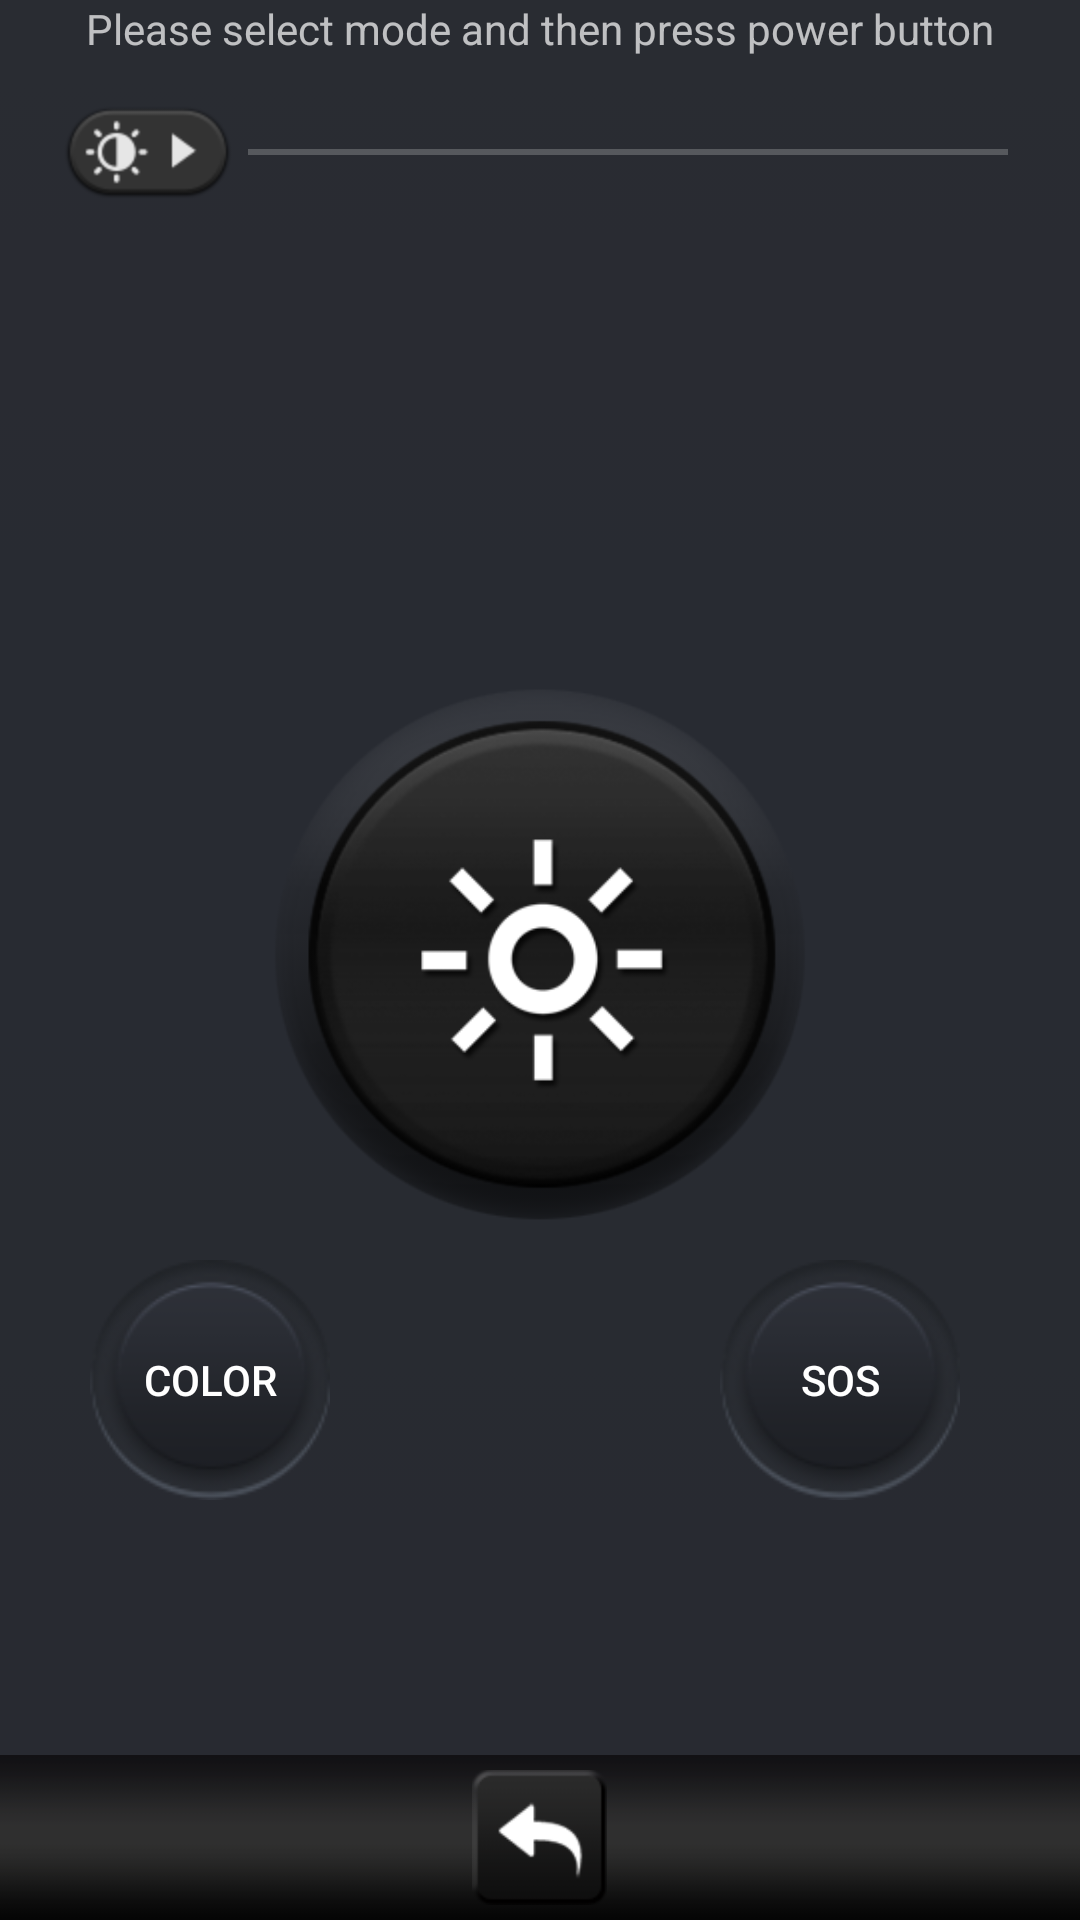

Point at icon controls on the screen. Image size 1080 x 1920, points as [x,y].
back: [540,1839]
